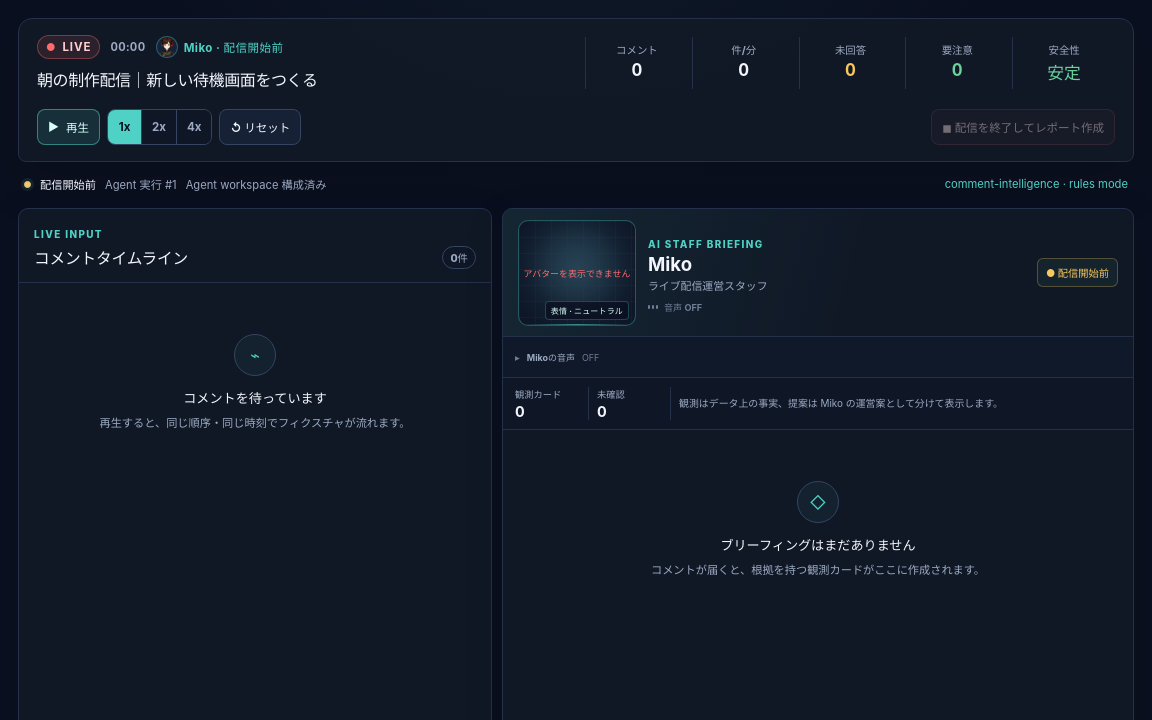
Test: stream operations fixture playback › clears the analyzing state when reset fails
The image size is (1152, 720).
Click the button "4x" at [194, 127], box [177, 110, 212, 144]
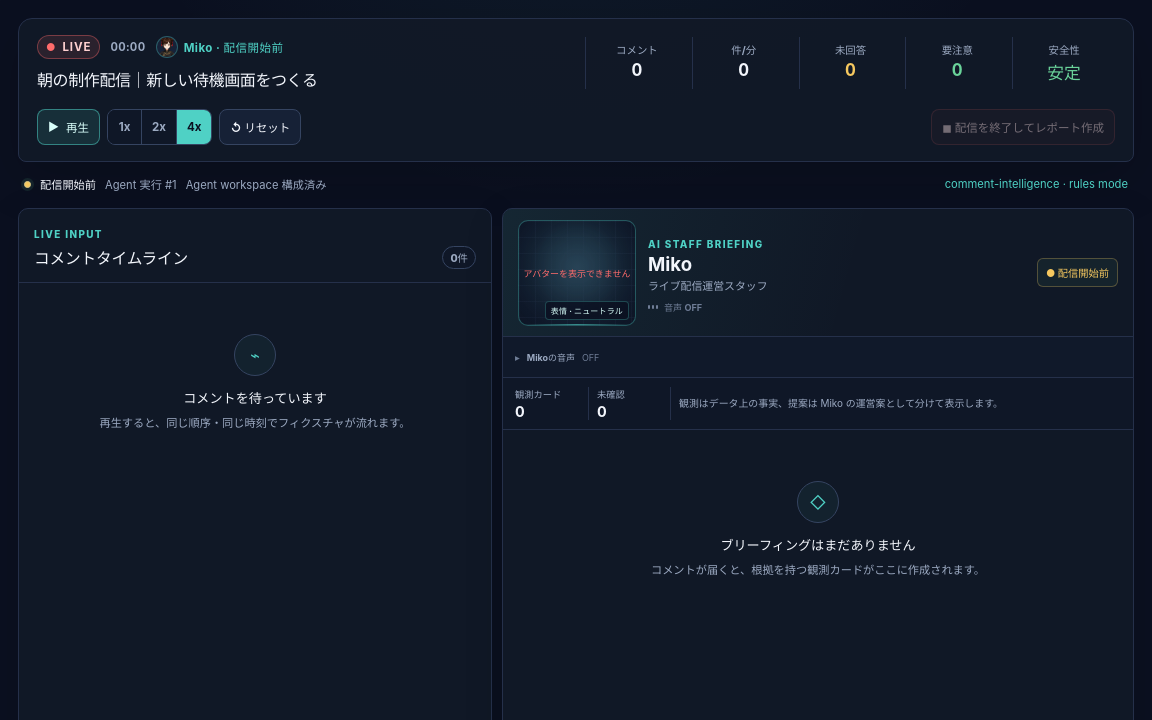
Click the button "▶ 再生" at [68, 127], box [37, 109, 100, 145]
Wait 300 ms
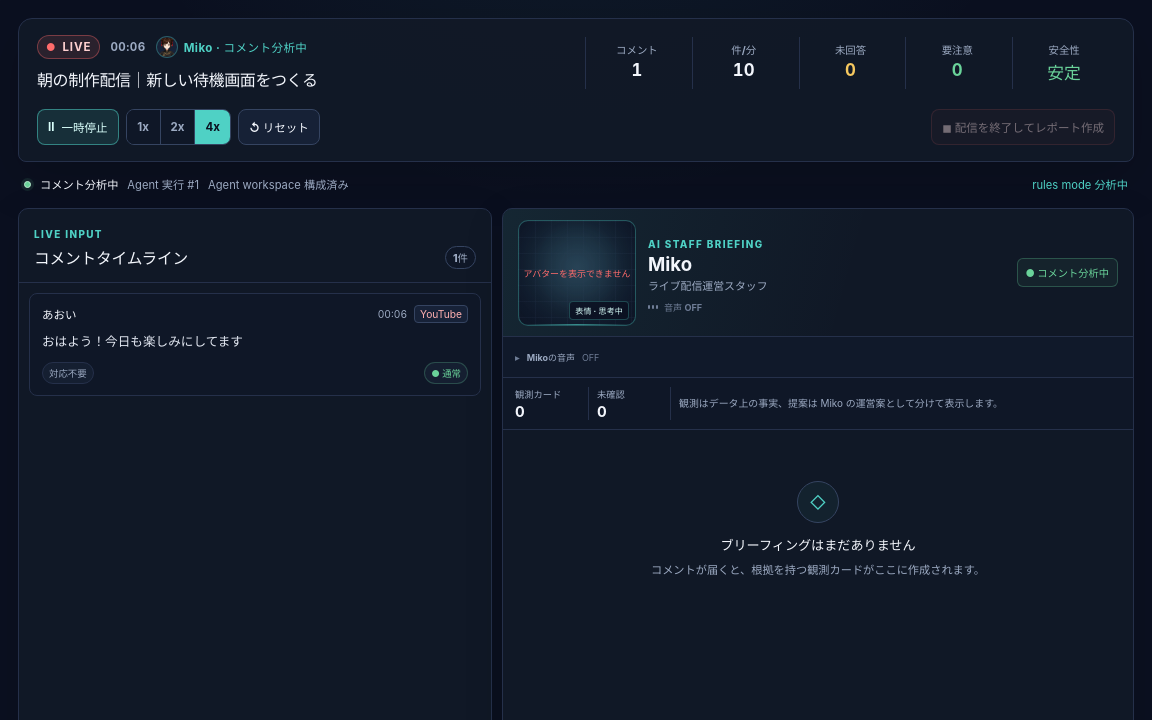
expect the text with class "rules-status" shows "分析中": met, box [1032, 178, 1128, 192]
Click the button "↺ リセット" at [279, 127], box [238, 109, 320, 145]
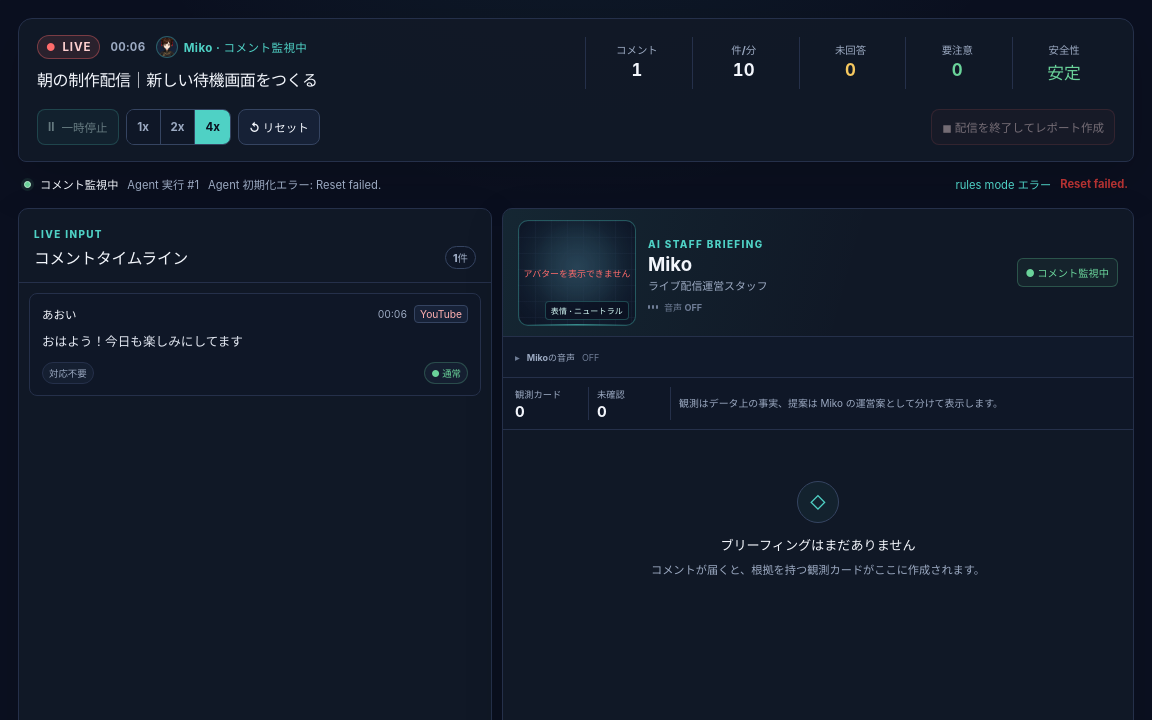
expect the text with class "rules-status" shows "エラー": met, box [956, 178, 1051, 192]
expect the message "Reset failed." is shown: met, box [1060, 177, 1128, 191]
